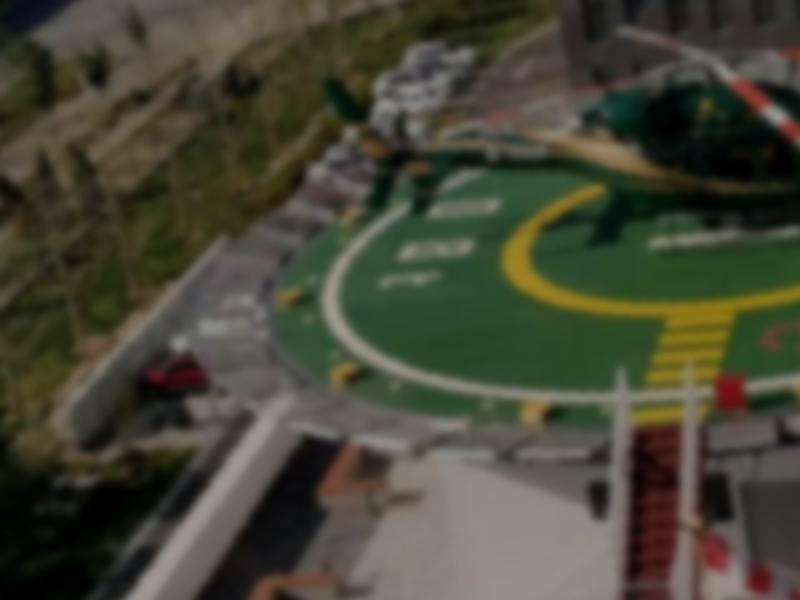Apron: (489, 153, 800, 333)
